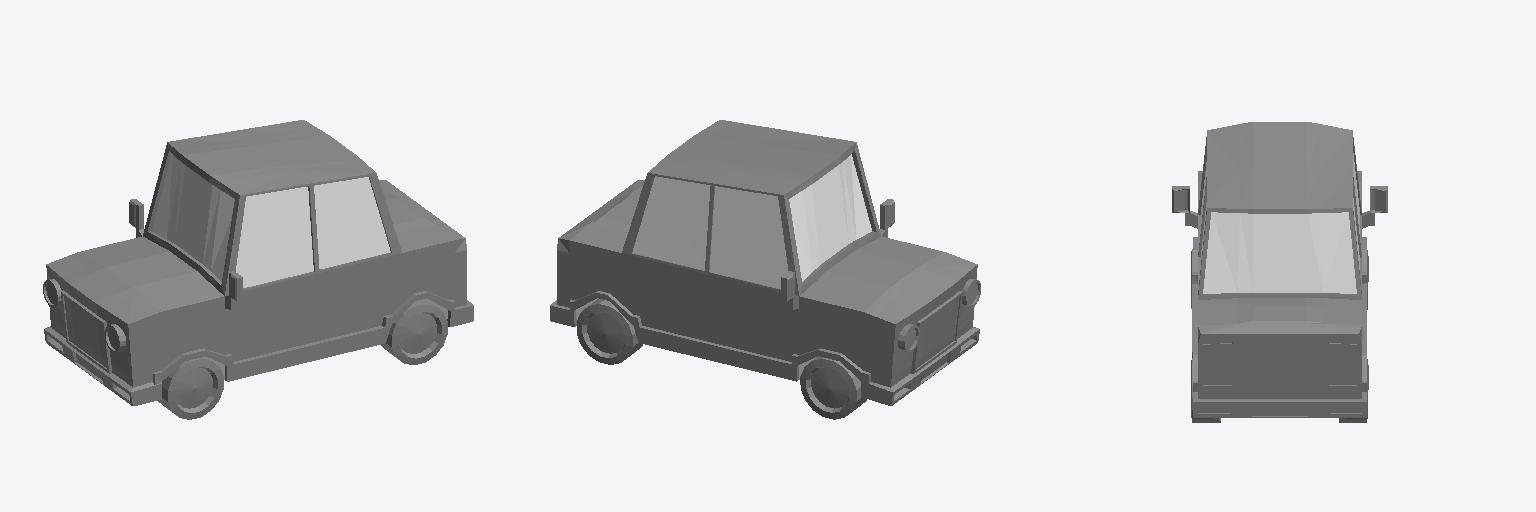
The model's file is auto_low_poly.obj.
3 views of the same model, side by side, from view 1: azimuth 30°, elevation 25°; view 2: azimuth 150°, elevation 25°; view 3: azimuth 270°, elevation 25° (orthographic).
Visible parts, largest first — view 1: polySurface3; view 2: polySurface3; view 3: polySurface3.
Boxes of the visible parts, x1,y1,x2,y2 form: polySurface3: [43, 120, 473, 419]; polySurface3: [550, 120, 980, 419]; polySurface3: [1172, 122, 1387, 422].
Bounding box in the file's own units: 5.97 × 3.43 × 3.18.